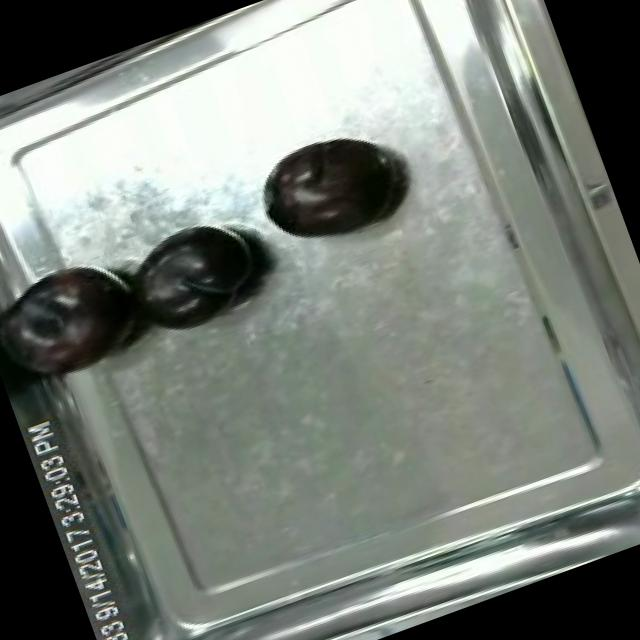Fruit: (0, 242, 161, 410), (110, 202, 282, 353), (246, 118, 414, 264)
